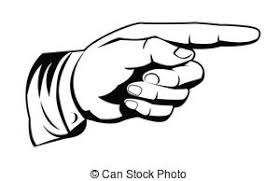hand: (61, 7, 279, 143)
